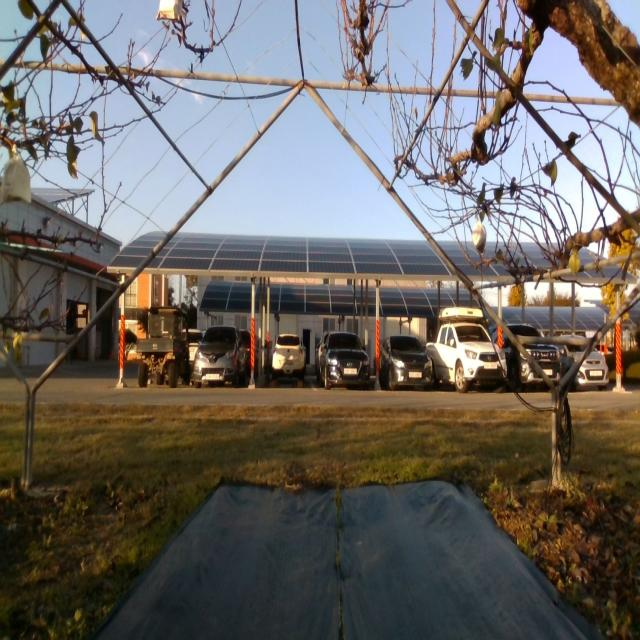pearbags: (0, 155, 31, 204), (156, 0, 183, 19), (472, 221, 486, 254)
